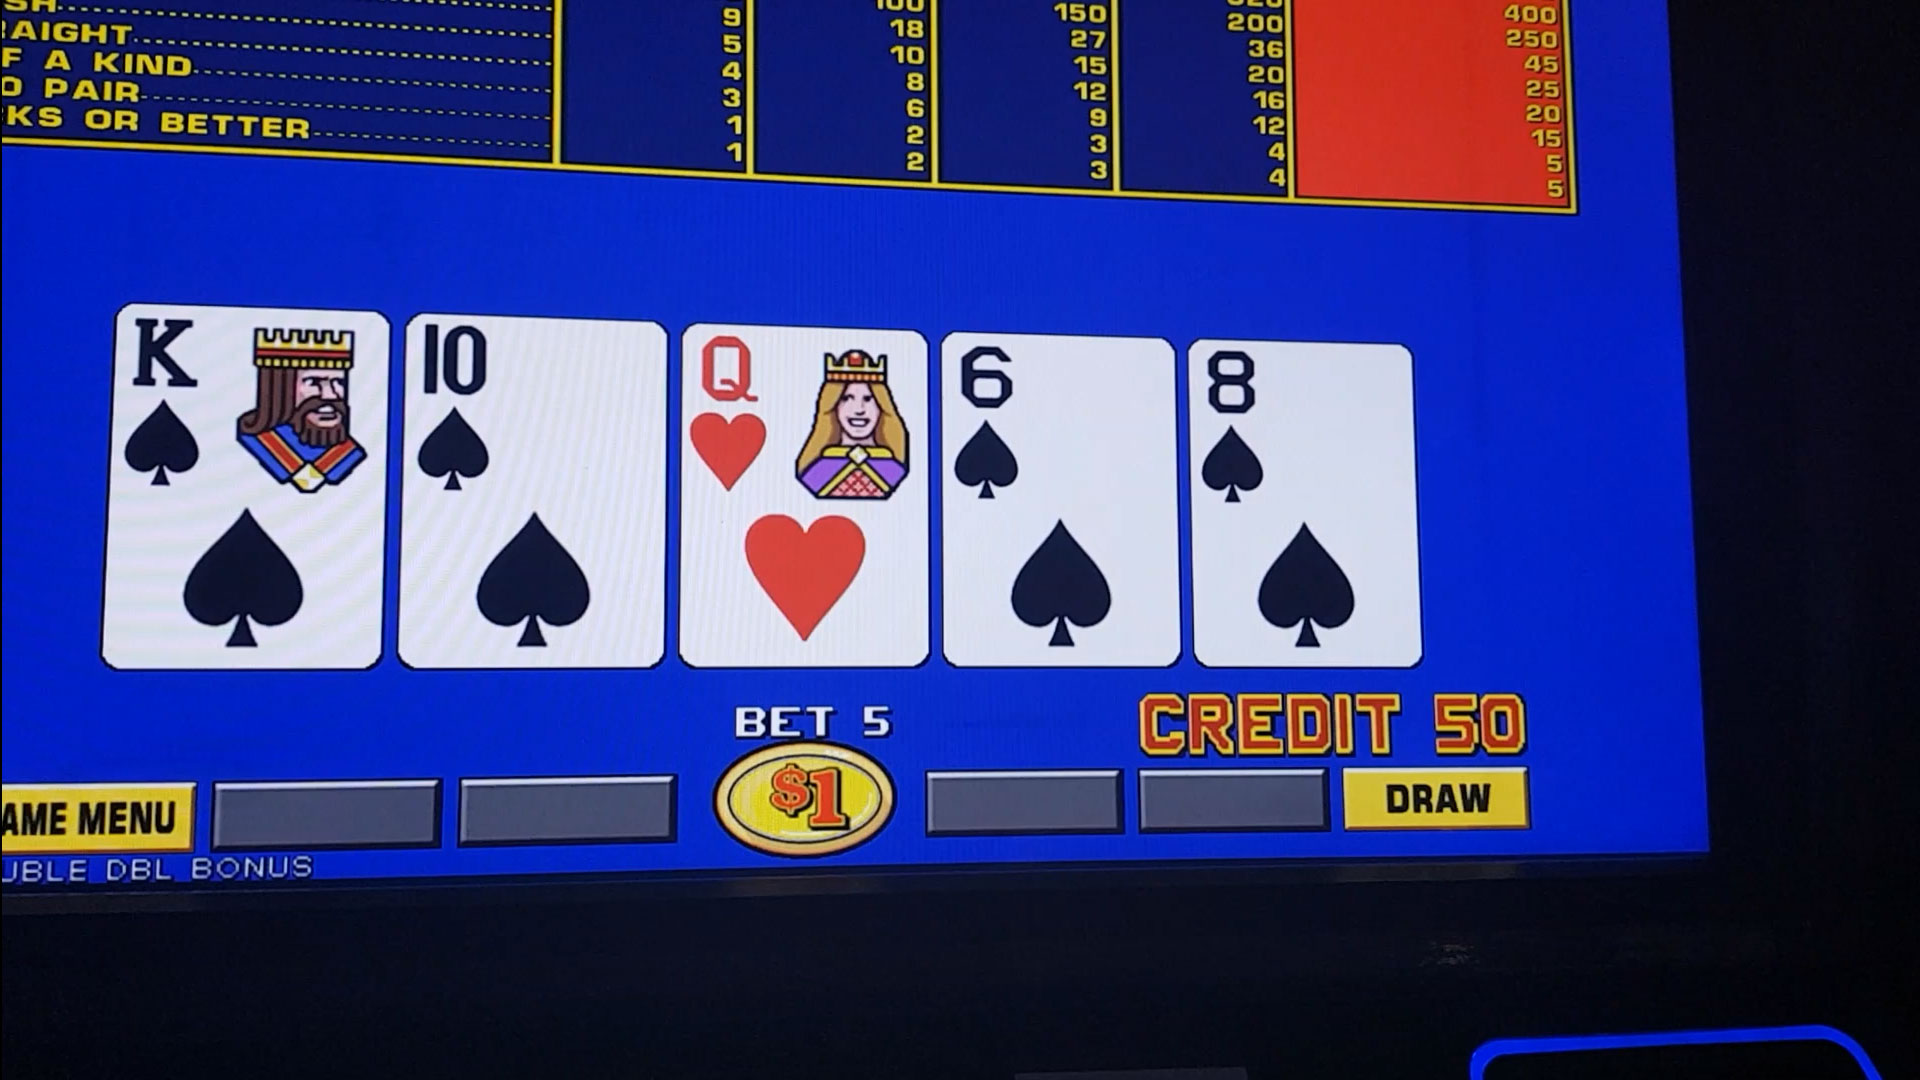HQ: (684, 338, 923, 502)
S6: (947, 342, 1167, 516)
S8: (1193, 345, 1407, 513)
SK: (123, 315, 382, 491)
ST: (410, 327, 662, 498)
